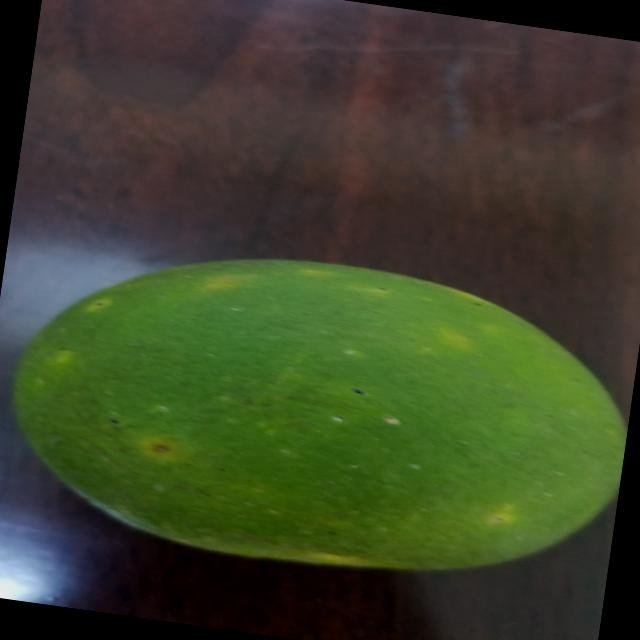agrume: (0, 215, 636, 604)
